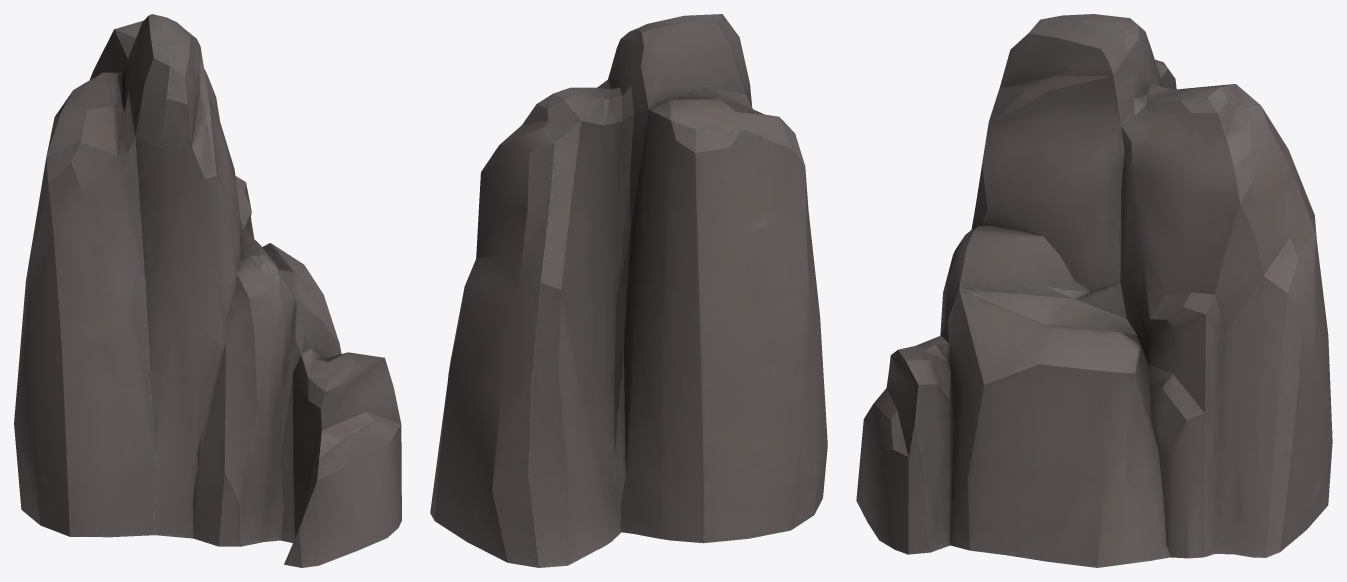
3 renders of one model, left to right at view 1: azimuth 30°, elevation 25°; view 2: azimuth 150°, elevation 25°; view 3: azimuth 270°, elevation 25°, orthographic. The views are drawn at different scales.
Parts seen in each view (by area): view 1: body0_model0_lod0_mesh0; view 2: body0_model0_lod0_mesh0; view 3: body0_model0_lod0_mesh0.
Boxes of the visible parts, x1,y1,x2,y2 form: body0_model0_lod0_mesh0: [14, 14, 401, 567]; body0_model0_lod0_mesh0: [430, 14, 827, 567]; body0_model0_lod0_mesh0: [856, 14, 1332, 567].
Size of the model in its own units: 196 by 278 by 258.
Materials: 1 (1 with a texture image).
